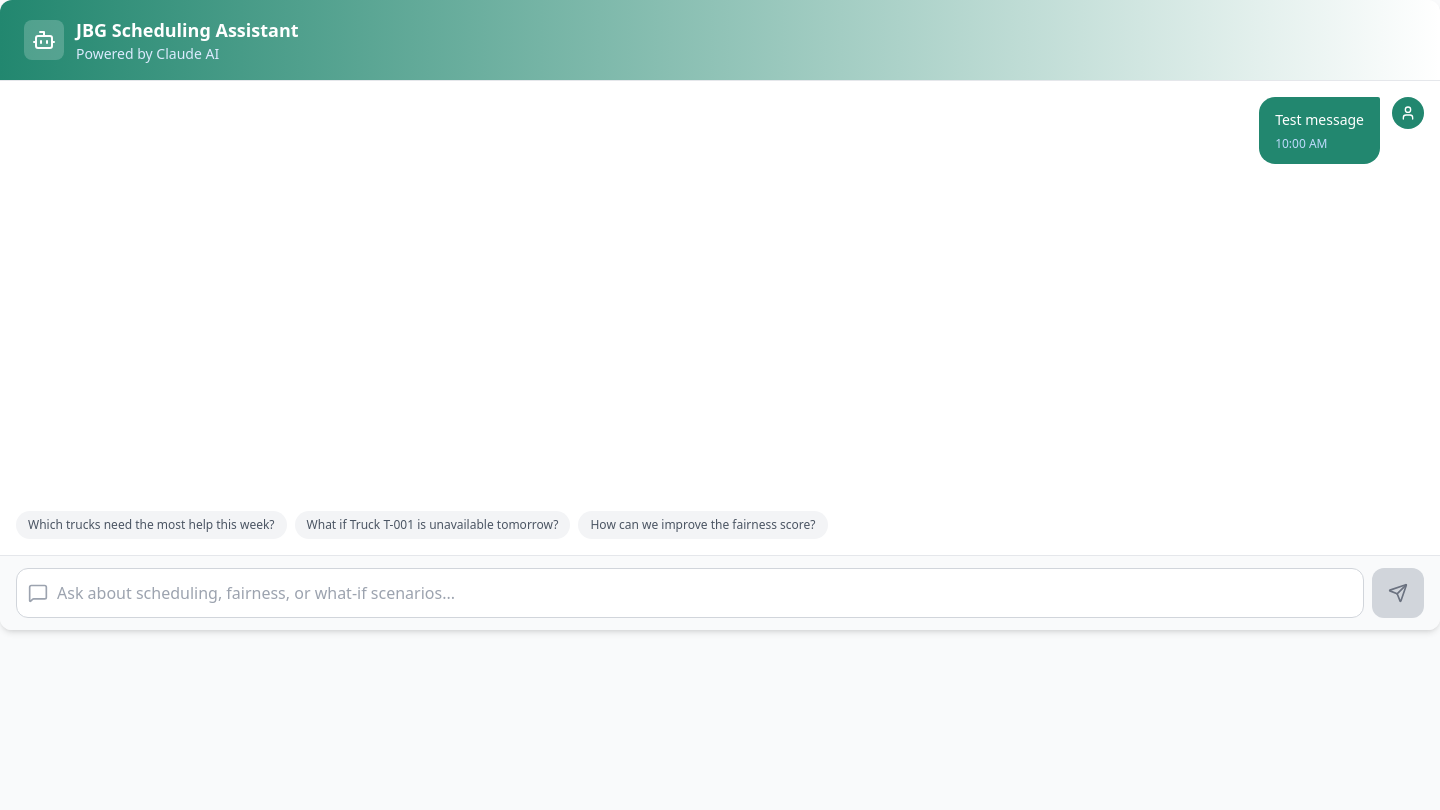
Test: ChatInterface › loading state › should show loading indicator while waiting for response
Type "Test" into the field with placeholder "Ask about scheduling, fairness, or what-if scenarios...". click: point(690, 593)
box: [16,568,1364,618]
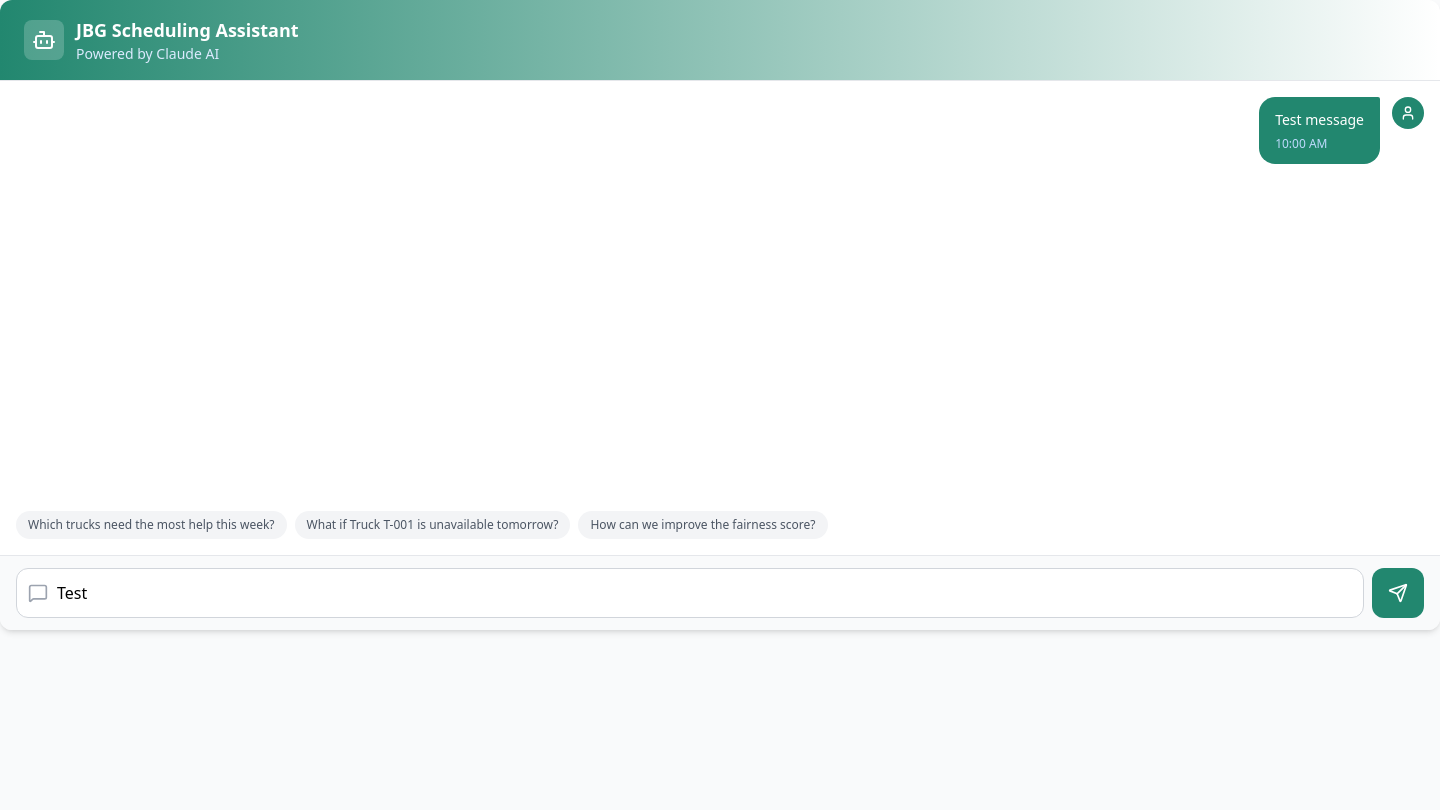
Click the 4th button. click: point(1398, 593)
box: [1372,568,1424,618]
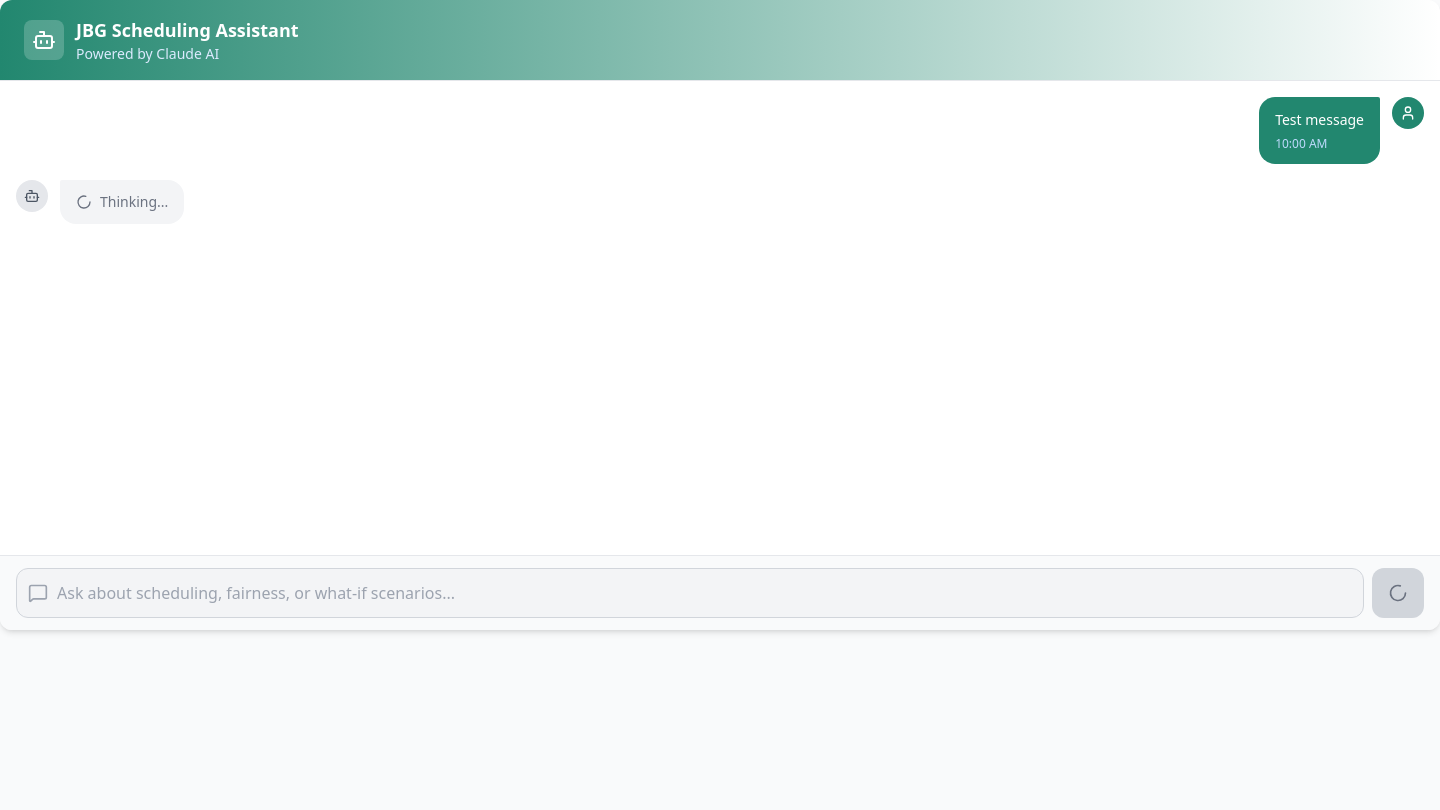
Now the text "Thinking..." is shown, box [100,192,168,212]
